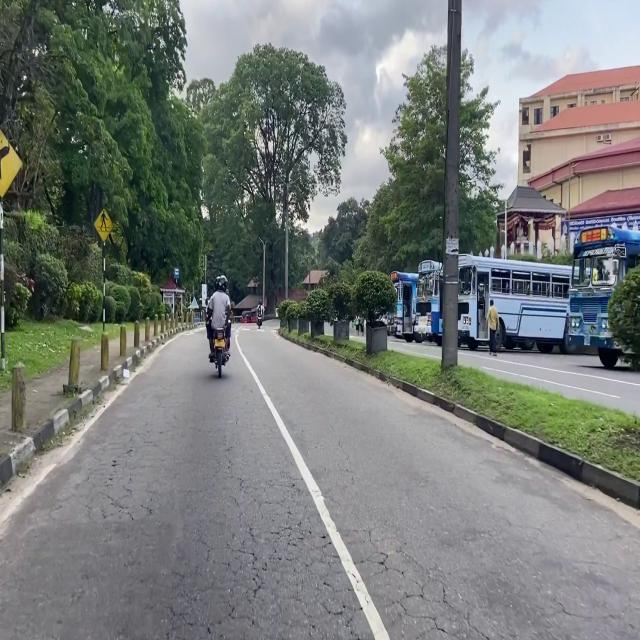bus: (458, 254, 571, 353), (567, 226, 640, 368), (387, 271, 422, 343), (416, 260, 442, 345)
motorcycle: (213, 329, 228, 377), (257, 313, 262, 328)
person: (206, 275, 231, 362), (487, 299, 499, 356), (257, 298, 263, 313), (355, 315, 359, 334), (360, 318, 364, 335)
